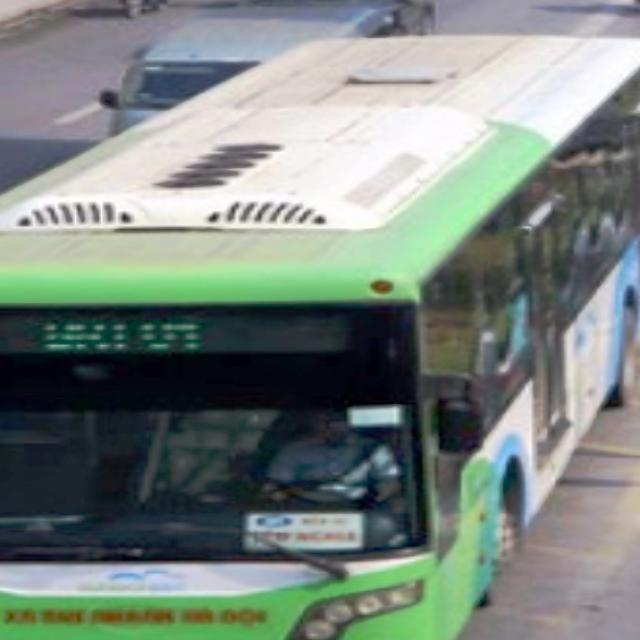Car: (0, 50, 640, 640), (128, 12, 382, 115), (248, 0, 426, 35)
